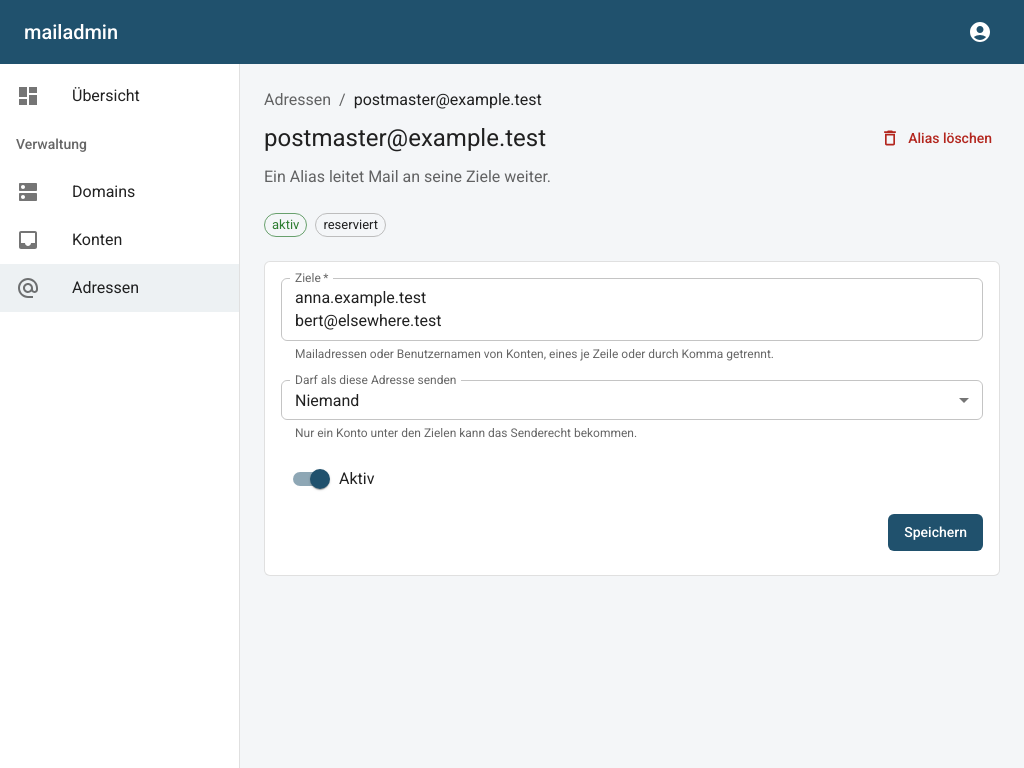
Test case: the alias page (A3) › deletes a reserved alias with the warning shown and confirm_reserved sent
Click the button "Alias löschen" at [938, 138], box [876,120,1000,156]
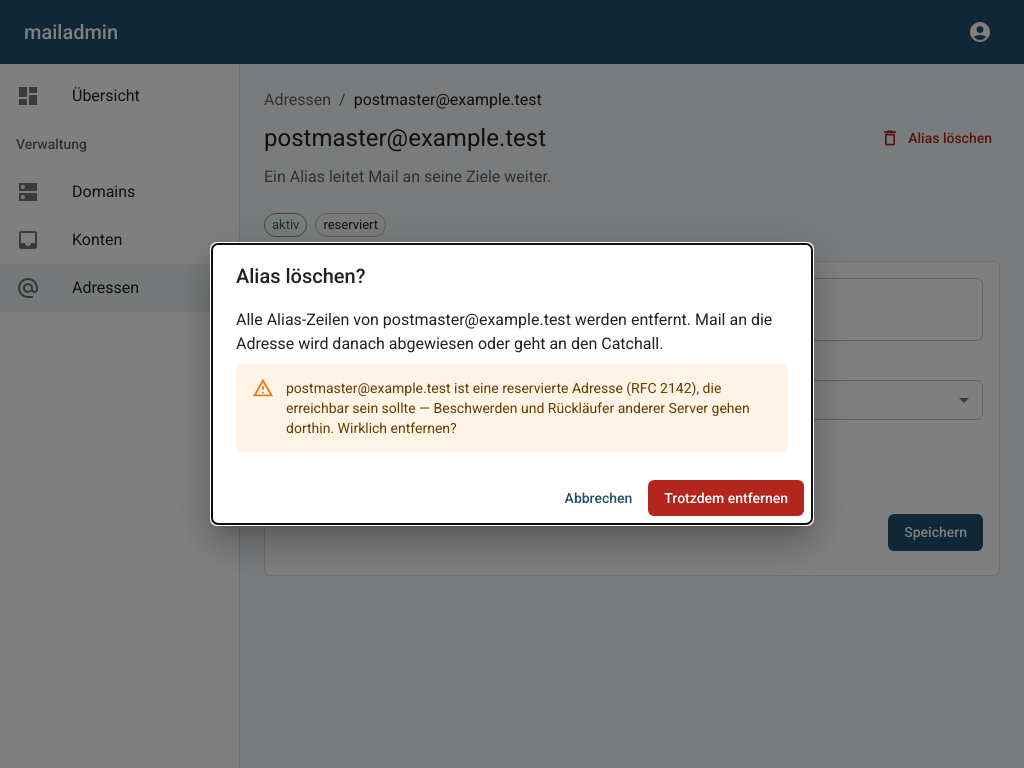
expect the text "reservierte Adresse (RFC 2142)" is shown: met, box [286,380,750,436]
Click the button "Trotzdem entfernen" at [726, 498], box [648,480,804,516]
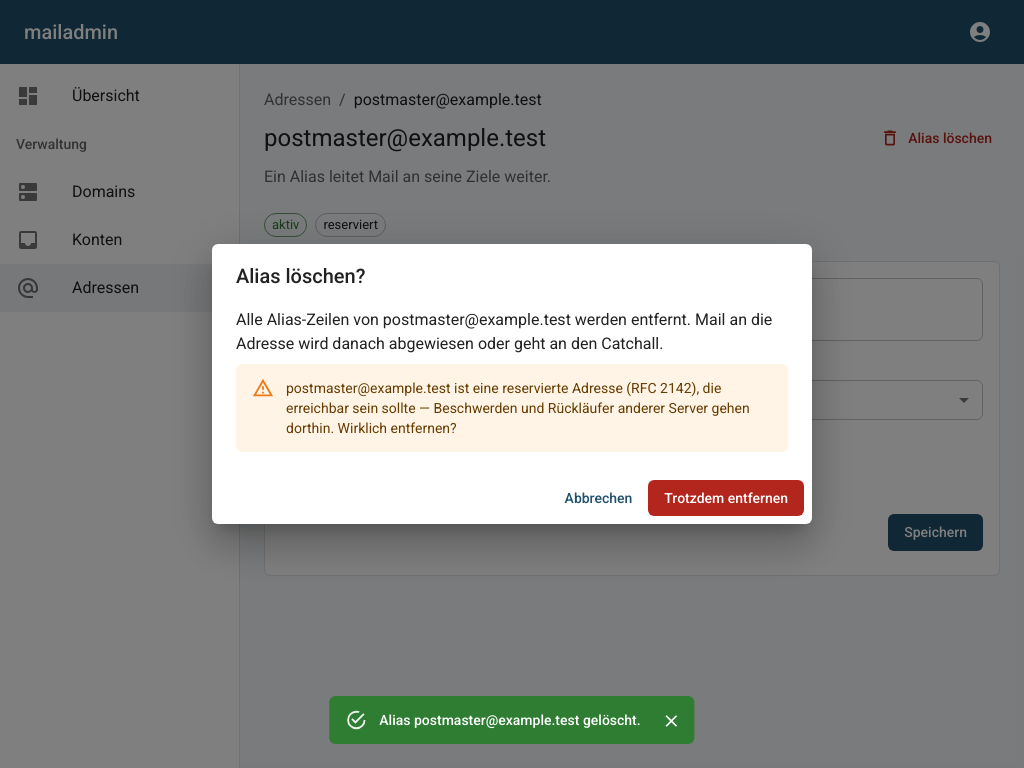
expect the text "Alias postmaster@example.test gelöscht." is shown: met, box [379,712,641,728]
